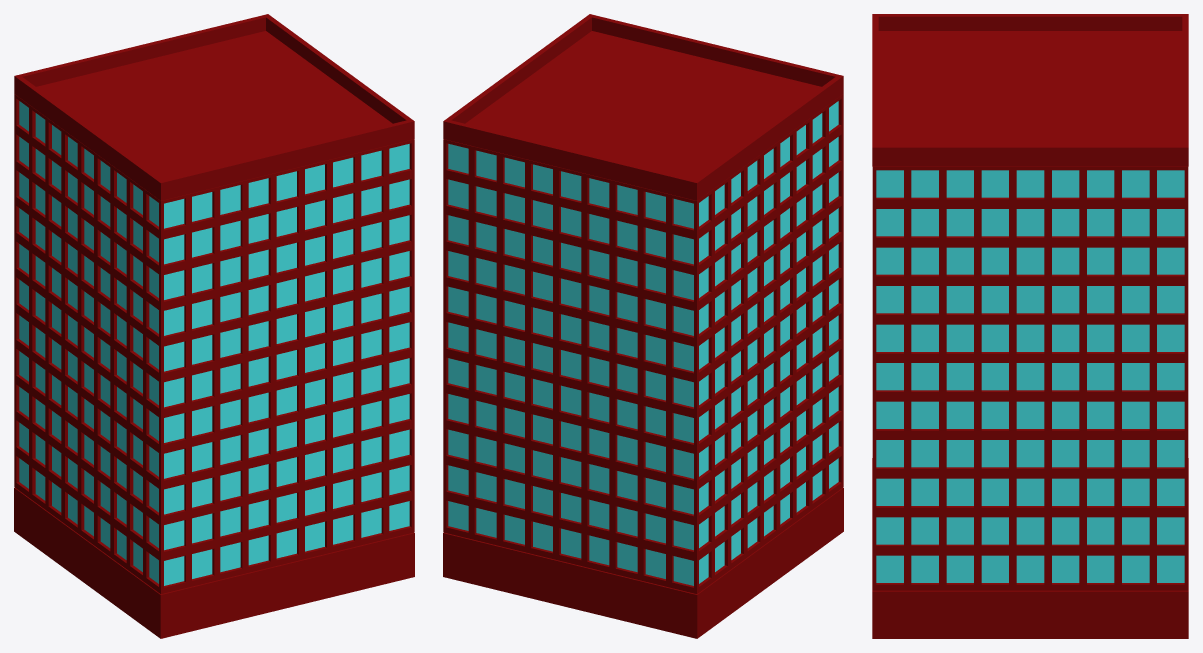
File: predio2.fbx
The picture shows the model from 3 angles, left to right: view 1: azimuth 30°, elevation 25°; view 2: azimuth 150°, elevation 25°; view 3: azimuth 270°, elevation 25°; orthographic projection. The views are drawn at different scales.
Parts seen in each view (by area): view 1: Plane.001, Plane.002, Plane; view 2: Plane.001, Plane.002, Plane; view 3: Plane.001, Plane.002, Plane.
Boxes of the visible parts, x1=… form: Plane.001: x1=14, y1=94, x2=414, y2=593; Plane.002: x1=14, y1=14, x2=414, y2=200; Plane: x1=14, y1=487, x2=414, y2=638; Plane.001: x1=443, y1=94, x2=843, y2=593; Plane.002: x1=443, y1=14, x2=843, y2=200; Plane: x1=443, y1=487, x2=843, y2=638; Plane.001: x1=872, y1=166, x2=1188, y2=590; Plane.002: x1=872, y1=14, x2=1188, y2=166; Plane: x1=872, y1=458, x2=1188, y2=638.
Bounding box in the file's own units: 367 × 629 × 367.
